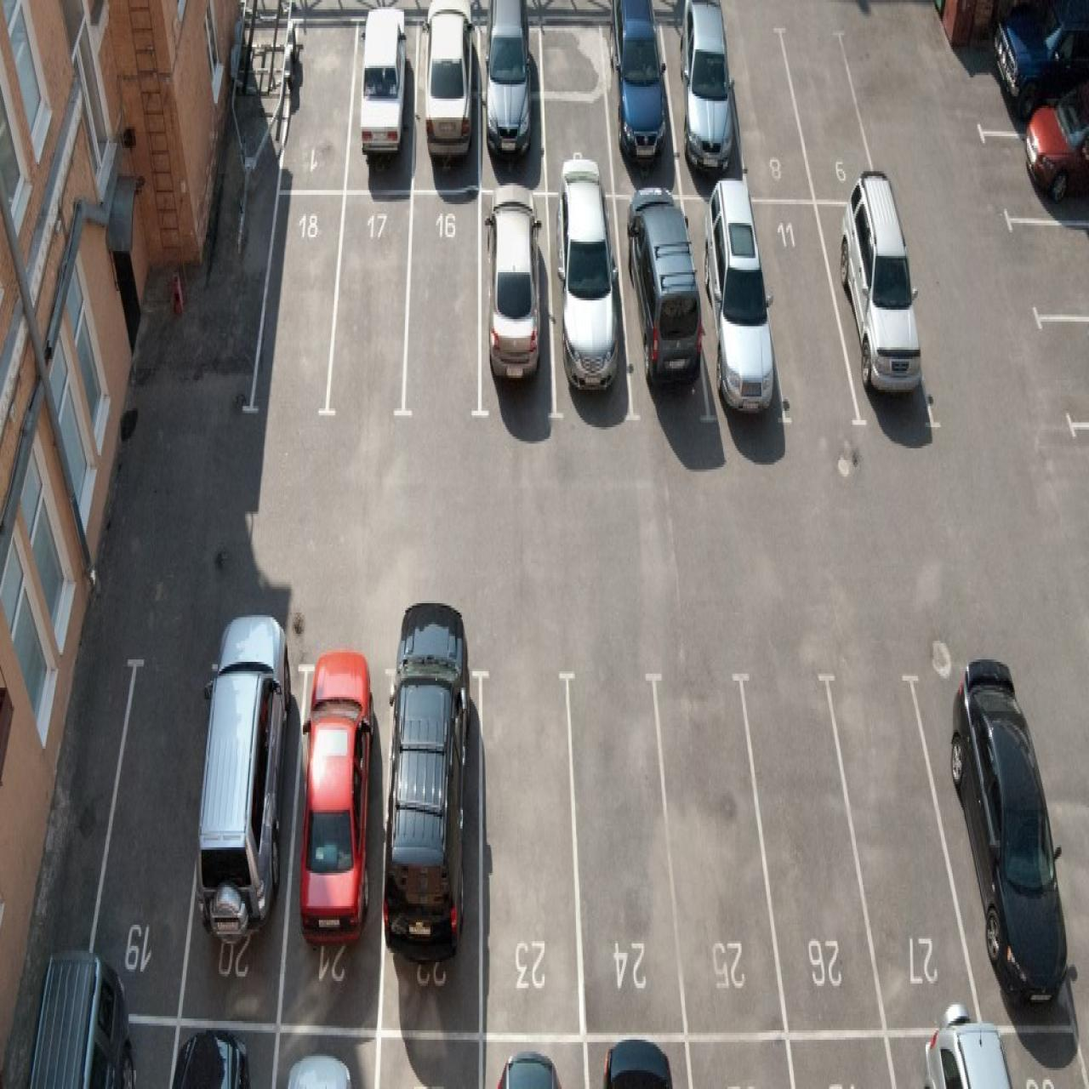cars: (947, 642, 1049, 1036), (189, 651, 291, 1022), (388, 649, 482, 1036), (286, 670, 391, 1015), (835, 181, 922, 444), (690, 177, 768, 445), (548, 198, 623, 440), (624, 191, 698, 419), (487, 191, 555, 431), (413, 18, 483, 191), (347, 21, 416, 195), (965, 12, 1089, 108), (994, 109, 1089, 219), (483, 35, 551, 188), (615, 28, 675, 195), (671, 25, 731, 191)
empty: (765, 660, 861, 1026), (578, 673, 671, 1043), (854, 663, 948, 1029), (670, 677, 760, 1029), (100, 667, 187, 1026), (485, 673, 572, 1026), (252, 188, 346, 422), (754, 202, 842, 436), (344, 184, 407, 433), (412, 182, 480, 409), (786, 29, 867, 184), (733, 33, 805, 188), (286, 21, 350, 181), (543, 35, 603, 202)
